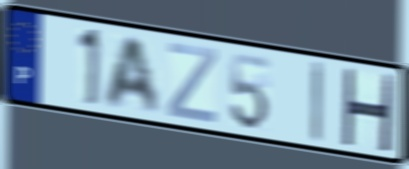1: (76, 27, 102, 109)
5: (229, 49, 273, 132)
A: (103, 34, 163, 116)
H: (339, 65, 396, 155)
I: (309, 59, 325, 146)
Z: (165, 40, 220, 127)
